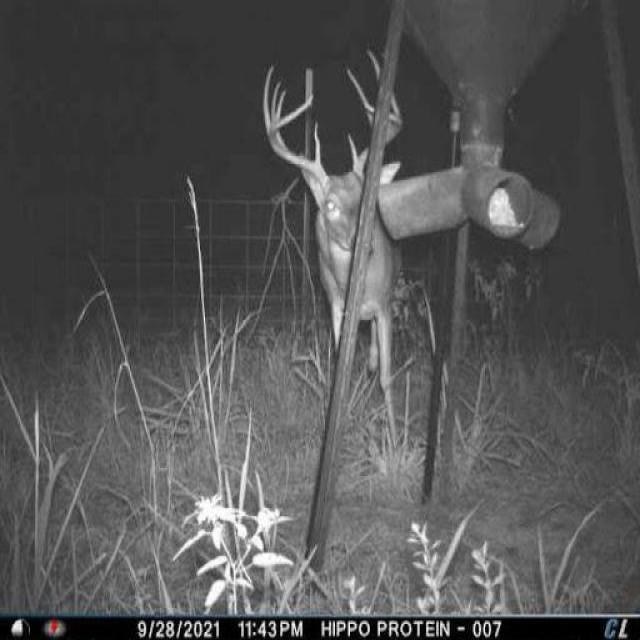deer: (258, 36, 412, 467)
